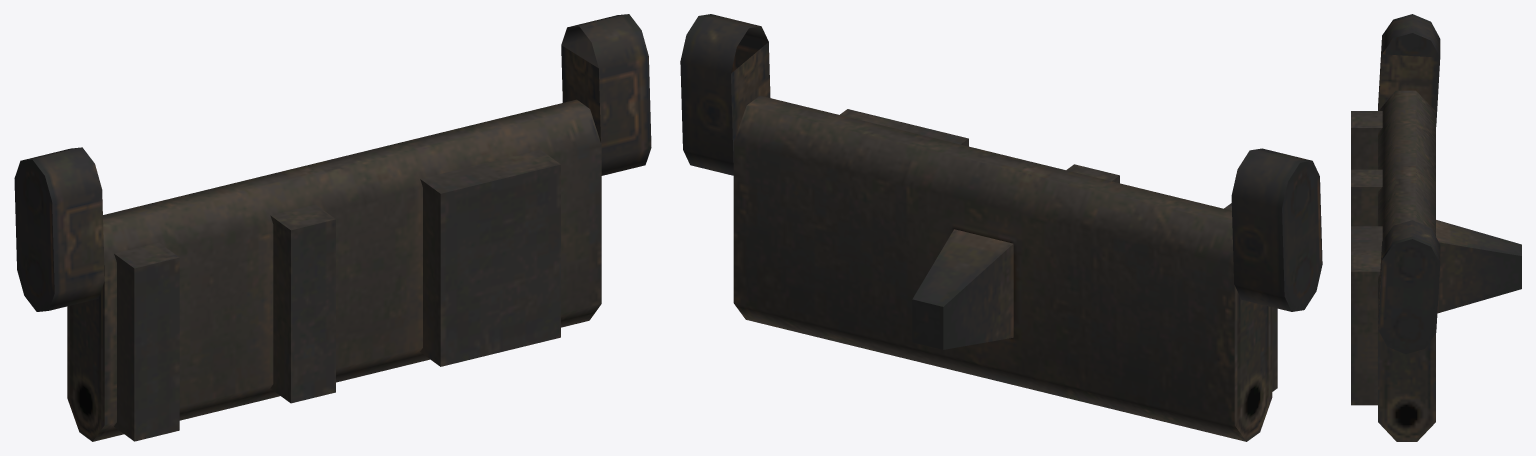
The picture shows the model from 3 angles, left to right: view 1: azimuth 30°, elevation 25°; view 2: azimuth 150°, elevation 25°; view 3: azimuth 270°, elevation 25°; orthographic projection. The views are drawn at different scales.
Visible parts, largest first — view 1: set_0_group_0; view 2: set_0_group_0; view 3: set_0_group_0.
Boxes of the visible parts, left/top/right/bottom form: set_0_group_0: left=14, top=14, right=651, bottom=441; set_0_group_0: left=680, top=14, right=1322, bottom=441; set_0_group_0: left=1351, top=14, right=1521, bottom=441.
Size of the model in its own units: 0.5908 by 0.2716 by 0.1897.
1 material, 1 textured.
